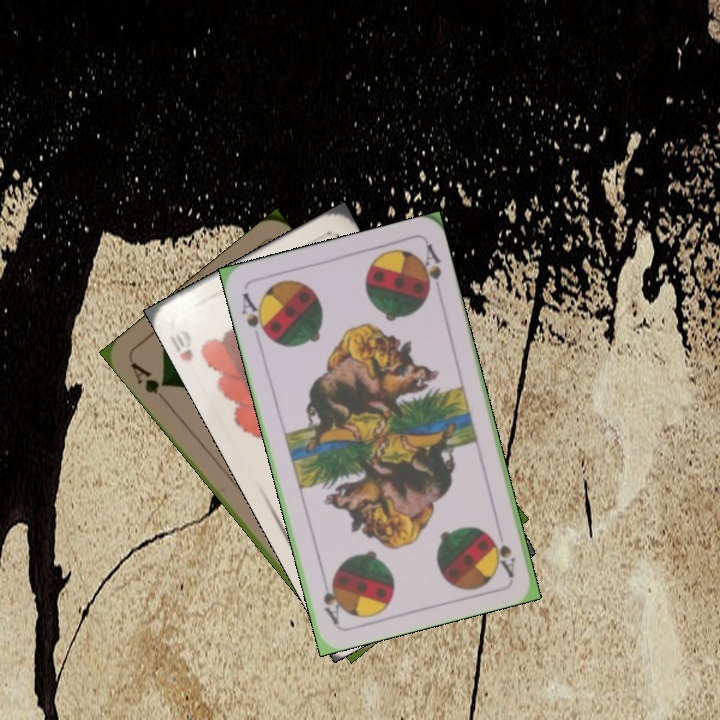GA: (126, 358, 171, 406)
H10: (171, 324, 196, 364)
SA: (238, 288, 272, 342), (488, 533, 518, 579)
